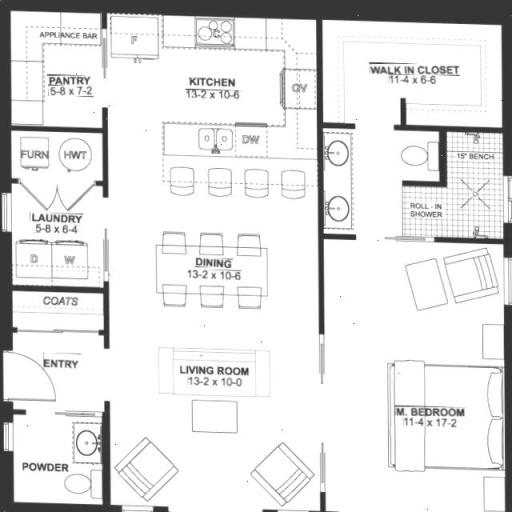bathroom: (333, 125, 504, 229)
bedroom: (326, 236, 504, 512)
closet: (328, 24, 512, 113)
hall: (113, 134, 306, 510)
kitchen: (20, 15, 309, 137)
laundary: (19, 145, 106, 512)
